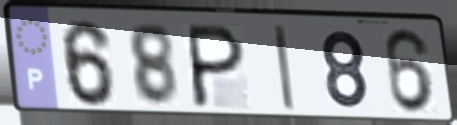6: (58, 17, 119, 109), (381, 25, 439, 118)
8: (125, 20, 182, 109), (320, 27, 372, 111)
I: (270, 23, 298, 114)
P: (187, 21, 248, 111)
